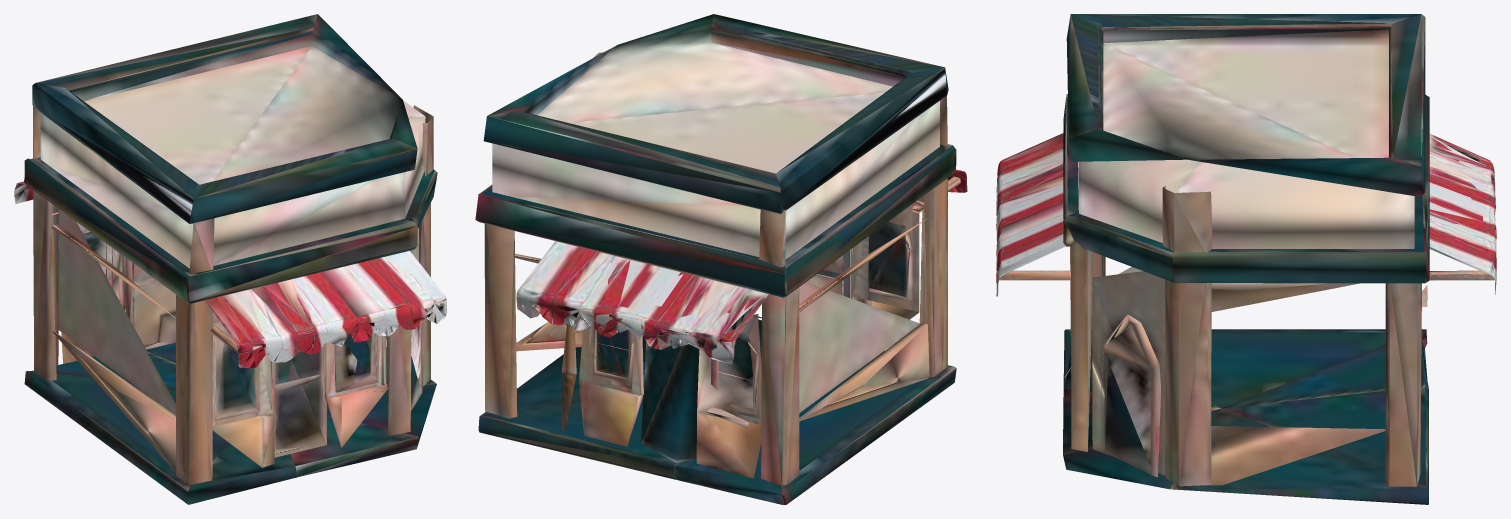
Rendered from 09-corner-shop.glb.
3 views of the same model, side by side, from view 1: azimuth 30°, elevation 25°; view 2: azimuth 150°, elevation 25°; view 3: azimuth 270°, elevation 25° (orthographic). The views are drawn at different scales.
Parts seen in each view (by area): view 1: geometry_0; view 2: geometry_0; view 3: geometry_0.
Part boxes in pixels (x1,y1,x2,y2): geometry_0: (14, 14, 446, 504); geometry_0: (475, 14, 967, 504); geometry_0: (996, 14, 1496, 504).
Bounding box in the file's own units: 0.7256 × 0.7036 × 0.9487.
Materials: 1 (1 with a texture image).
